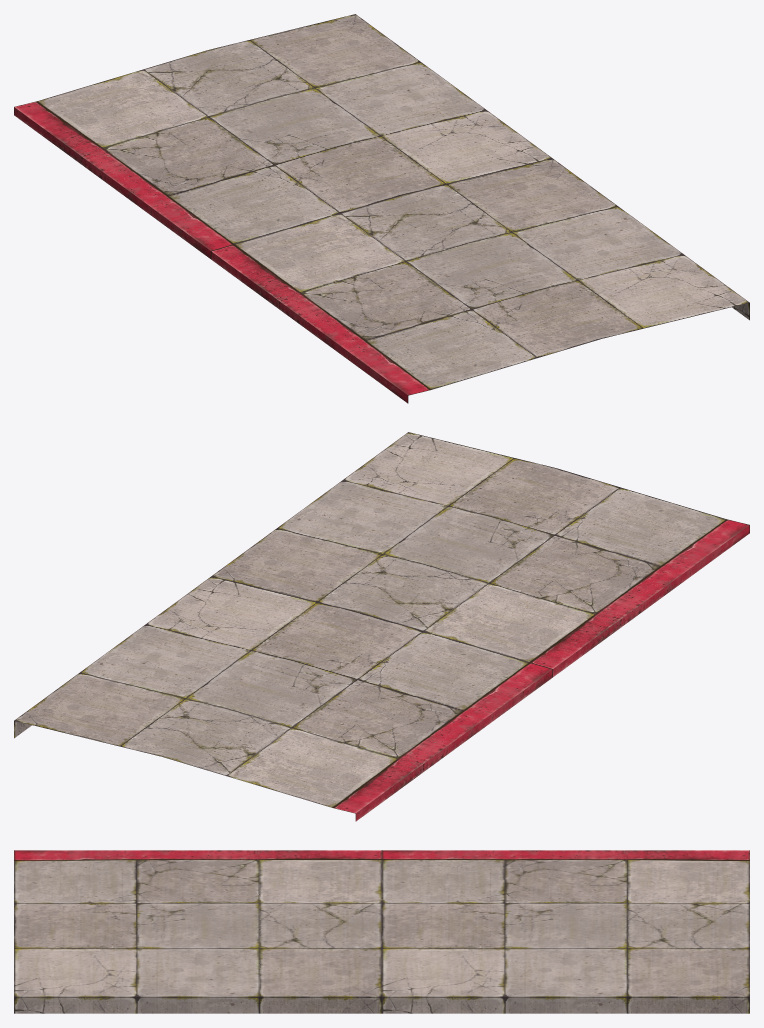
File: Tanjakan.fbx
The picture shows the model from 3 angles, top to bottom: view 1: azimuth 30°, elevation 25°; view 2: azimuth 150°, elevation 25°; view 3: azimuth 270°, elevation 25°; orthographic projection. The views are drawn at different scales.
Parts seen in each view (by area): view 1: sidewalk02_driveway; view 2: sidewalk02_driveway; view 3: sidewalk02_driveway.
Boxes of the visible parts, box(x1,y1,x2,y2) form: sidewalk02_driveway: box(14, 14, 749, 403); sidewalk02_driveway: box(14, 432, 749, 821); sidewalk02_driveway: box(14, 850, 749, 1013).
Bounding box in the file's own units: 300 × 15 × 600.
